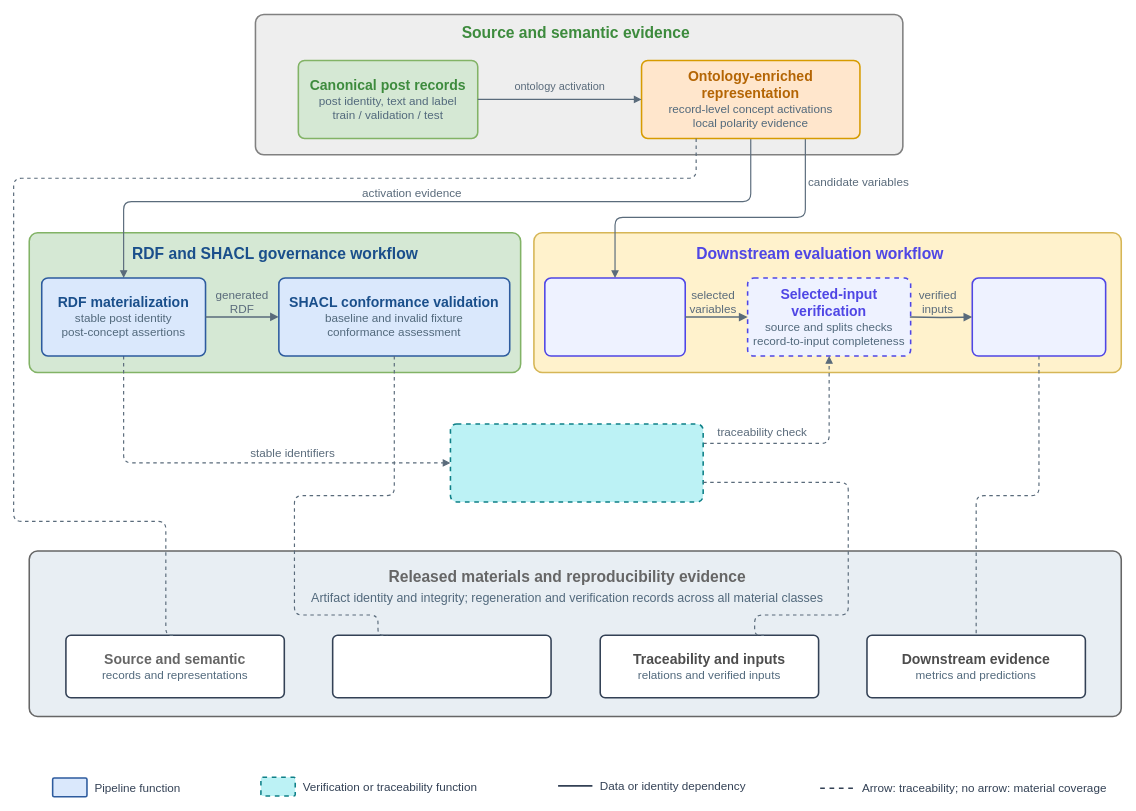
The diagram is 1136 pixels wide and 811 high, and some of its shapes have lost their labels. Each missing label, with the box of its shape:
Downstream evaluation controlled model inputs secondary evidence: (971, 277, 1106, 356)
Graph and conformance RDF and SHACL results: (332, 634, 551, 698)
Traceability management post, RDF, semantic-variable, and model-input links: (449, 423, 704, 502)
Train-only variable selection 37 candidate variables selected semantic inputs: (544, 277, 686, 356)
